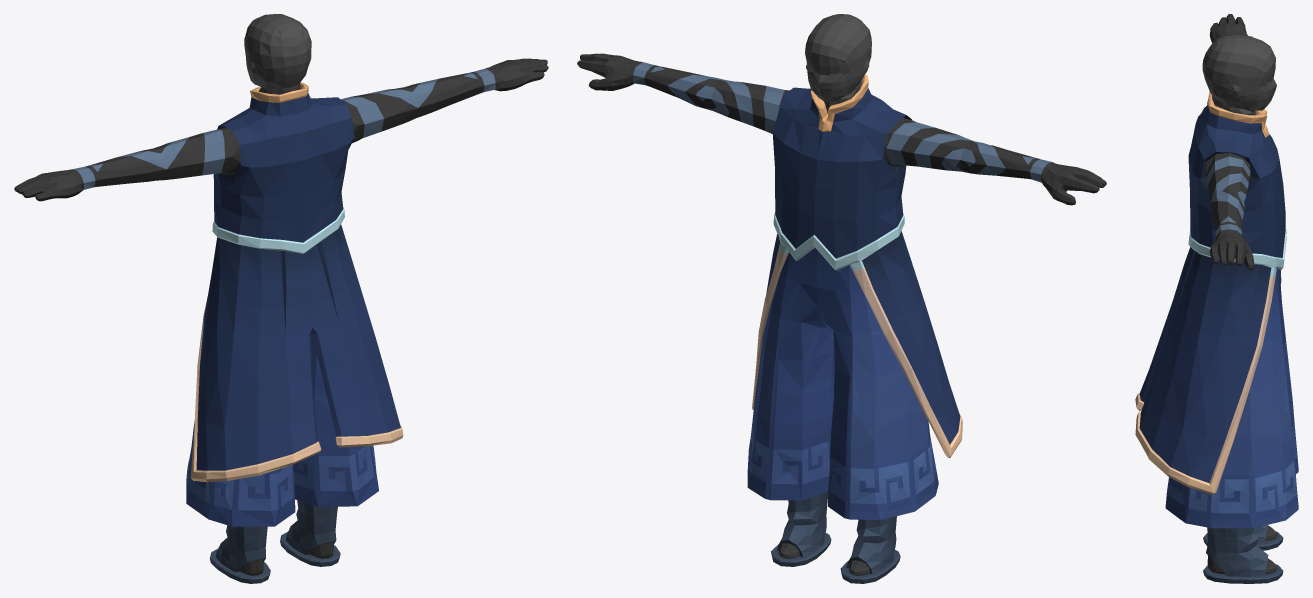
The model's file is NPC_AP23PianistSuit.glb.
3 views of the same model, side by side, from view 1: azimuth 30°, elevation 25°; view 2: azimuth 150°, elevation 25°; view 3: azimuth 270°, elevation 25° (orthographic). The views are drawn at different scales.
Parts seen in each view (by area): view 1: NPC_AP23PianistSuit; view 2: NPC_AP23PianistSuit; view 3: NPC_AP23PianistSuit.
Part boxes in pixels (<box>): NPC_AP23PianistSuit: <box>14,14,548,583</box>; NPC_AP23PianistSuit: <box>577,14,1106,583</box>; NPC_AP23PianistSuit: <box>1135,14,1298,583</box>.
Bounding box in the file's own units: 14.03 × 13.79 × 3.92.
1 material, 1 textured.
